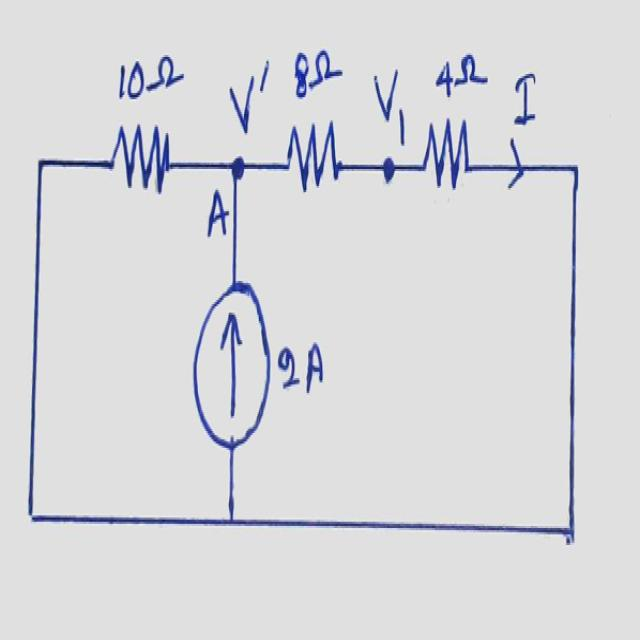current_source: (190, 271, 275, 453)
resistor: (106, 117, 181, 211), (417, 102, 475, 214), (280, 111, 344, 208)
